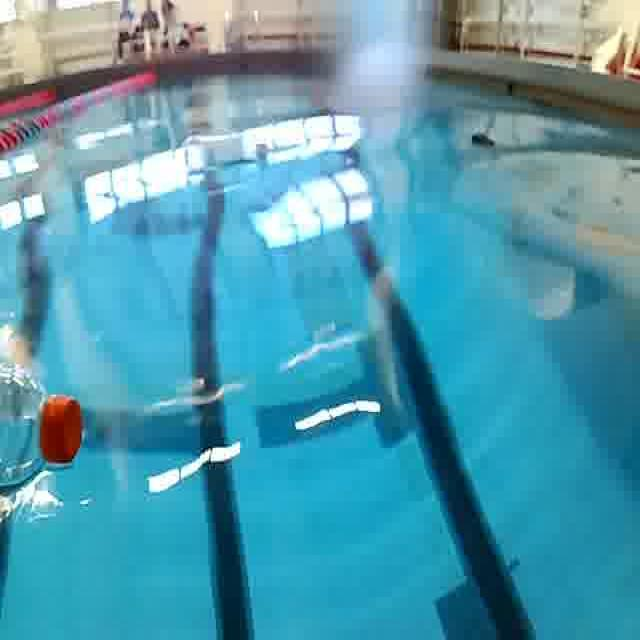Bottle: (0, 358, 91, 492)
